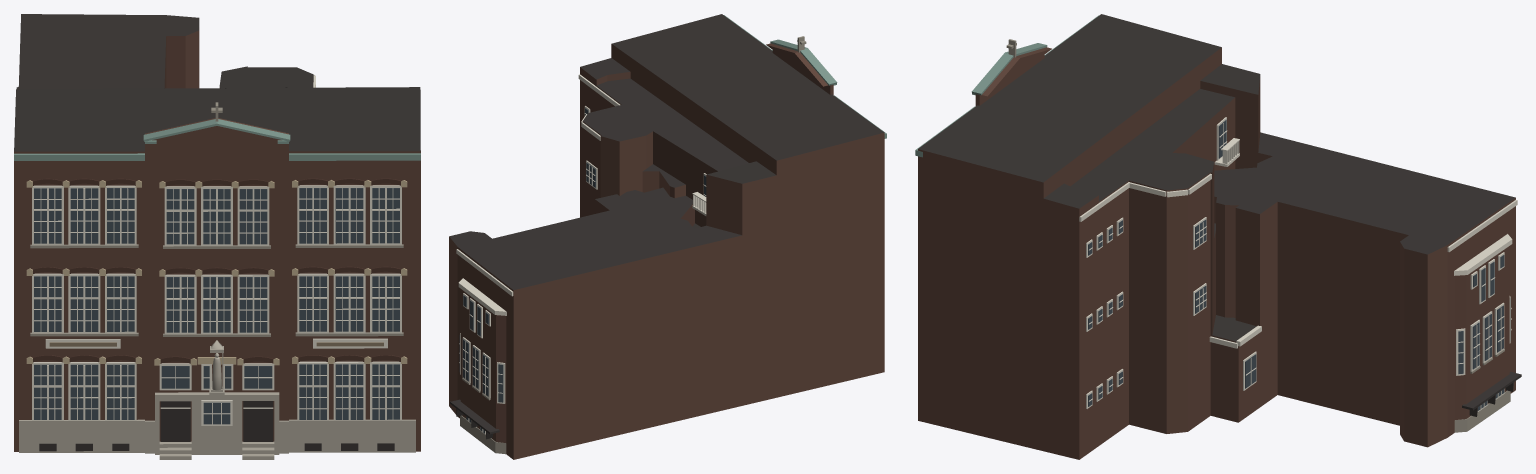
Rendered from oostenburgergracht-15.glb.
3 views of the same model, side by side, from view 1: azimuth 30°, elevation 25°; view 2: azimuth 150°, elevation 25°; view 3: azimuth 270°, elevation 25° (orthographic). The views are drawn at different scales.
Visible parts, largest first — view 1: oostenburgergracht-15; view 2: oostenburgergracht-15; view 3: oostenburgergracht-15.
Boxes of the visible parts, left/top/right/bottom form: oostenburgergracht-15: left=14, top=14, right=420, bottom=459; oostenburgergracht-15: left=449, top=14, right=886, bottom=459; oostenburgergracht-15: left=915, top=14, right=1521, bottom=459.
Size of the model in its own units: 23.83 by 19.91 by 34.91.
